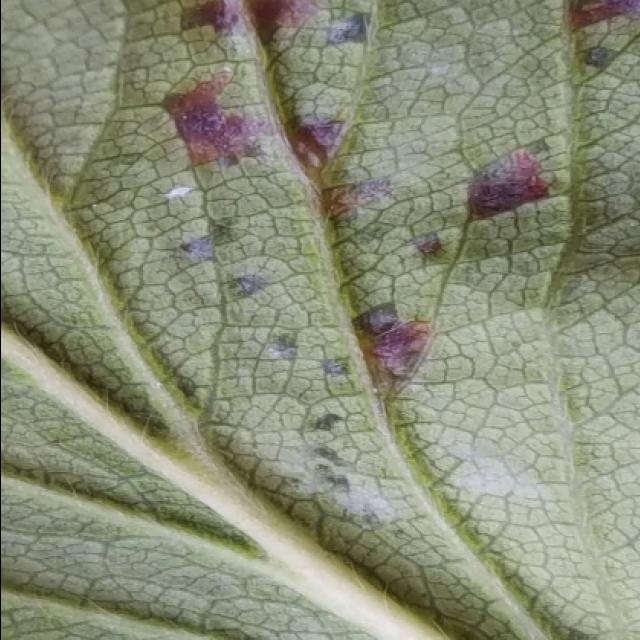Angular Leafspot: (150, 2, 640, 539)
